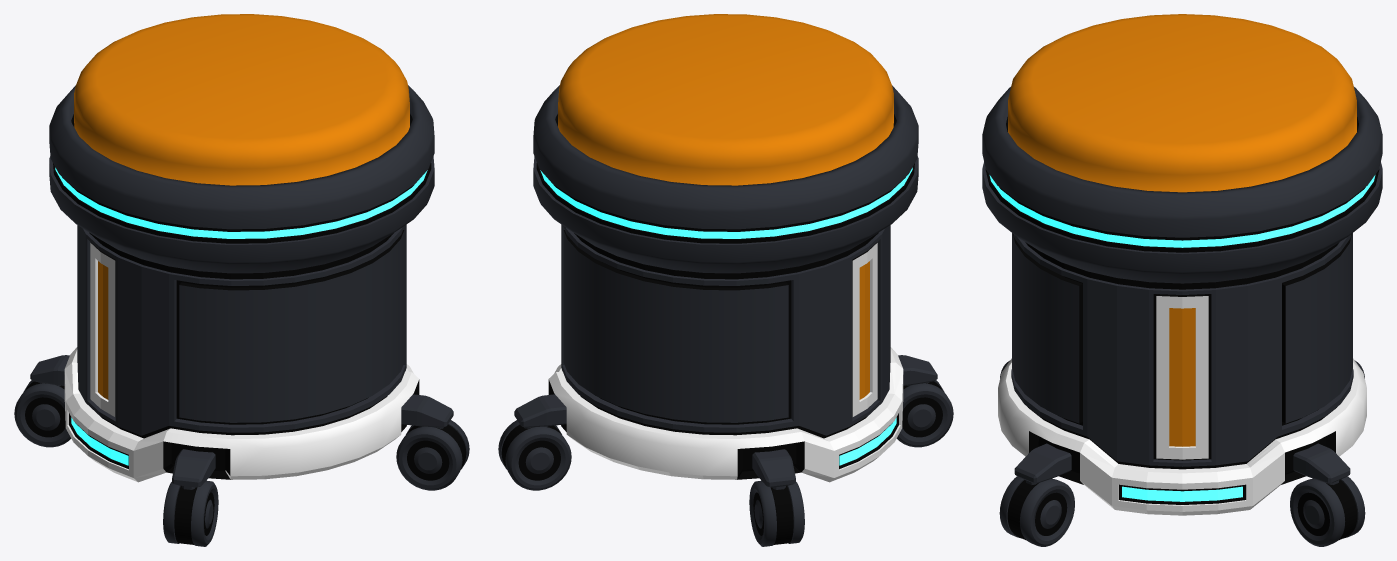
The model's file is SM_Medical_Stool.fbx.
3 renders of one model, left to right at view 1: azimuth 30°, elevation 25°; view 2: azimuth 150°, elevation 25°; view 3: azimuth 270°, elevation 25°, orthographic. The views are drawn at different scales.
Visible parts, largest first — view 1: SM_Medical_Stool.001; view 2: SM_Medical_Stool.001; view 3: SM_Medical_Stool.001.
Boxes of the visible parts, x1,y1,x2,y2 form: SM_Medical_Stool.001: [14, 14, 469, 546]; SM_Medical_Stool.001: [498, 14, 953, 546]; SM_Medical_Stool.001: [982, 14, 1382, 546].
Size of the model in its own units: 49.7 by 54.54 by 49.7.
